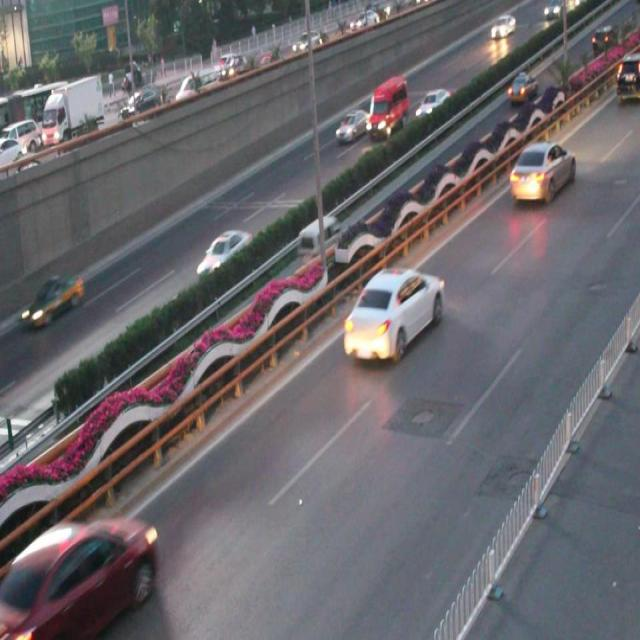car: (1, 519, 157, 640), (342, 267, 443, 361), (507, 141, 575, 203), (22, 274, 84, 326), (195, 228, 251, 275), (414, 87, 451, 123), (333, 108, 369, 140)
truck: (366, 77, 408, 134), (296, 212, 341, 262)
